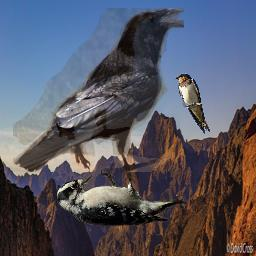Crow: (13, 8, 184, 172)
Swallow: (174, 73, 210, 134)
Woodpecker: (57, 168, 188, 226)
